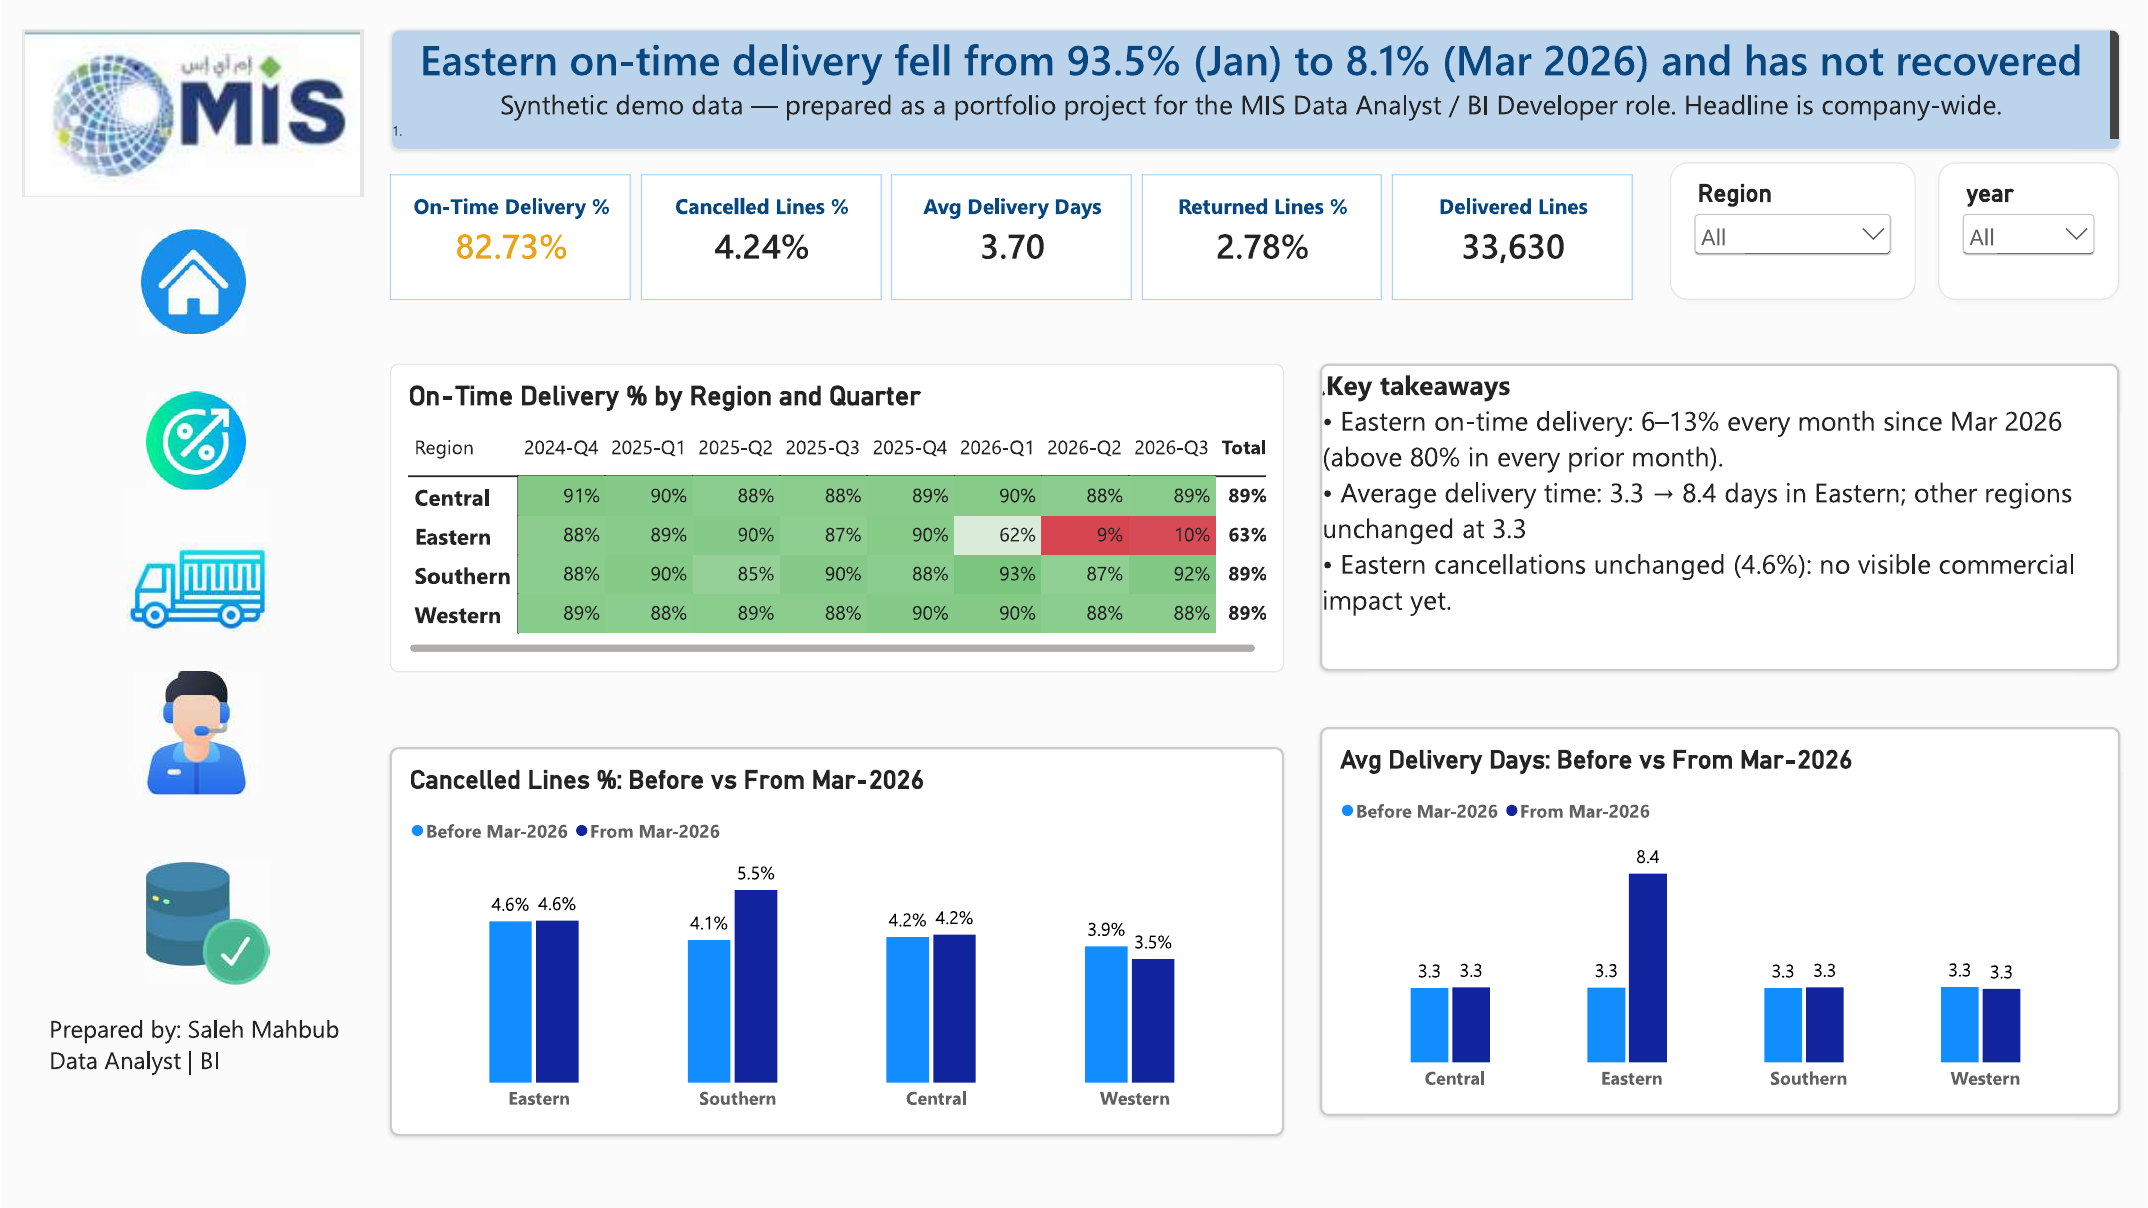

What the dashboard file says about the page in this screenshot:
{"tool":"powerbi","page":{"name":"Delivery & Operations","canvas":[1920,1080],"ordinal":2},"visuals":[{"type":"slicer","fields":{"Values":["dim_region.region_name_en"]},"box":[1492.5,145,220,122.5],"z":0},{"type":"slicer","fields":{"Values":["dim_date.year"]},"box":[1732.5,145,162.5,122.5],"z":1000},{"type":"textbox","box":[348.7,25.5,1547.7,108.4],"z":2000},{"type":"image","box":[19.1,25.5,306.1,150.9],"z":3000},{"type":"cardVisual","fields":{"Data":["_Measures.On-Time Delivery %","_Measures.Cancelled Lines %","_Measures.Avg Delivery Days","_Measures.Returned Lines %","_Measures.Delivered Lines"]},"box":[347.5,155,1112.5,112.5],"z":4000},{"type":"pivotTable","title":"On-Time Delivery % by Region and  Quarter","fields":{"Columns":["dim_date.year_quarter"],"Rows":["dim_region.Region"],"Values":["_Measures.On-Time Delivery %"]},"box":[347.5,325,800,276],"z":5000},{"type":"clusteredColumnChart","title":"Avg Delivery Days: Before vs From Mar-2026","fields":{"Category":["dim_region.Region"],"Series":["dim_date.Period"],"Y":["_Measures.Avg Delivery Days"]},"box":[1180,650,716,348],"z":6000},{"type":"clusteredColumnChart","title":"Cancelled Lines %: Before vs From Mar-2026","fields":{"Category":["dim_region.Region"],"Series":["dim_date.Period"],"Y":["_Measures.Cancelled Lines %"]},"box":[347.5,667.5,800,348],"z":7000},{"type":"textbox","box":[1180,325,715,275],"z":8000},{"type":"image","box":[100,205,145,92.5],"z":8001},{"type":"image","box":[110,350,130,87.5],"z":8002},{"type":"image","box":[100,437.5,150,127.5],"z":8003},{"type":"image","box":[110,600,130,110],"z":8004},{"type":"image","box":[130,745,110,160],"z":8005},{"type":"textbox","box":[42.5,905,282.5,72.5],"z":8006}]}

Visuals, with their boxes in screenshot pixels (x1, y1, x2, y2), scaled from the page's 1920x1080 canvas onto the 2148x1208 screenshot:
slicer - dim_region.region_name_en: (1670,162,1916,299)
slicer - dim_date.year: (1938,162,2120,299)
textbox: (390,29,2122,150)
image: (21,29,364,197)
cardVisual - _Measures.On-Time Delivery % x _Measures.Cancelled Lines %: (389,173,1633,299)
"On-Time Delivery % by Region and  Quarter" pivotTable: (389,364,1284,672)
"Avg Delivery Days: Before vs From Mar-2026" clusteredColumnChart: (1320,727,2121,1116)
"Cancelled Lines %: Before vs From Mar-2026" clusteredColumnChart: (389,747,1284,1136)
textbox: (1320,364,2120,671)
image: (112,229,274,333)
image: (123,391,268,489)
image: (112,489,280,632)
image: (123,671,268,794)
image: (145,833,268,1012)
textbox: (48,1012,364,1093)
